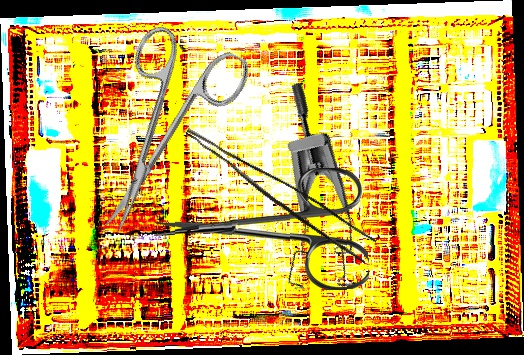Iris Scissors: (58, 13, 256, 253), (152, 167, 370, 293)
Speculum: (210, 79, 394, 311)
Tissue Forceps: (172, 127, 381, 264)
